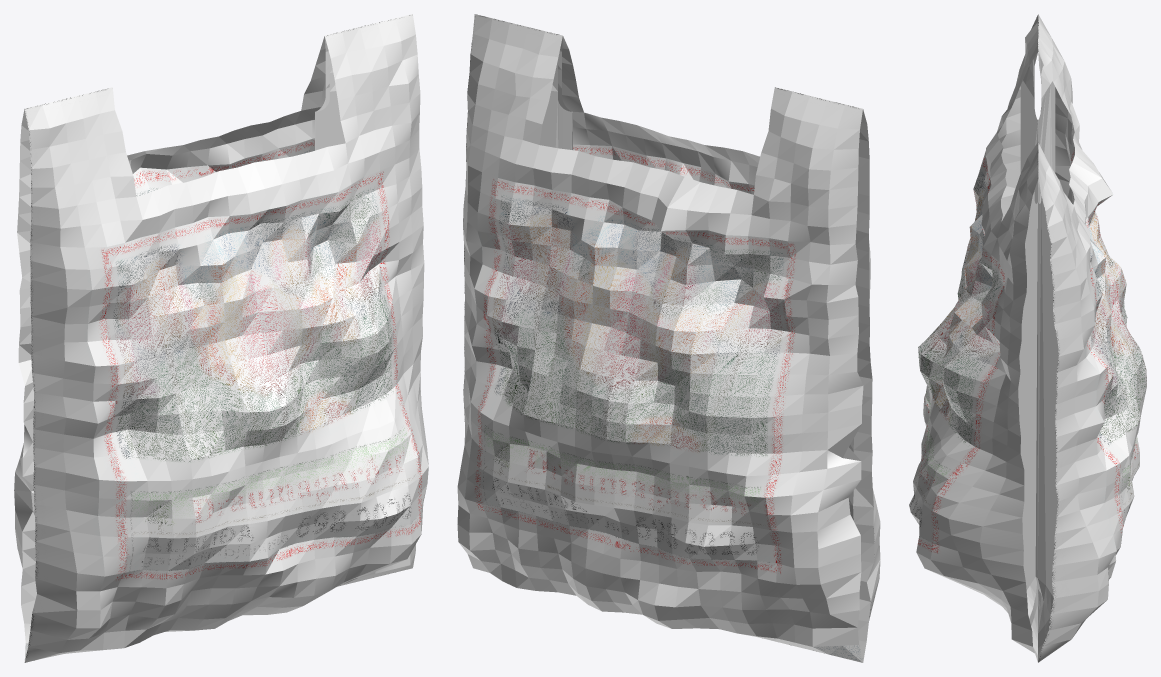
File: plastic bag.fbx
The picture shows the model from 3 angles, left to right: view 1: azimuth 30°, elevation 25°; view 2: azimuth 150°, elevation 25°; view 3: azimuth 270°, elevation 25°; orthographic projection. The views are drawn at different scales.
Visible parts, largest first — view 1: Group2, Group3; view 2: Group3, Group2; view 3: Group2, Group3.
Part boxes in pixels (x1,y1,x2,y2): Group2: (24, 14, 428, 662); Group3: (14, 36, 329, 661); Group3: (457, 14, 863, 662); Group2: (558, 36, 880, 662); Group2: (909, 14, 1038, 661); Group3: (1035, 14, 1146, 662).
Bounding box in the file's own units: 44.15 × 60.21 × 26.85.
